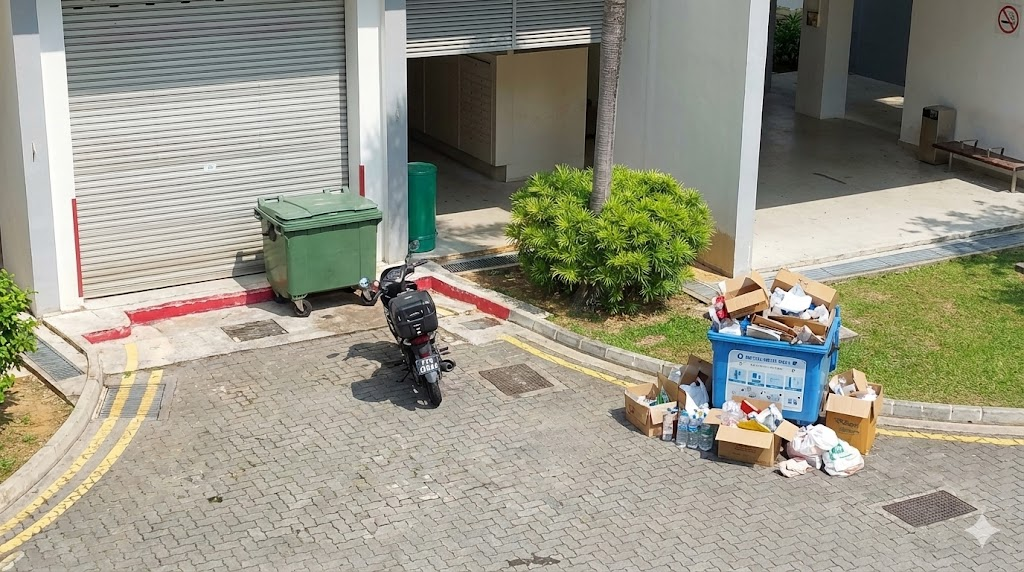bin_empty: (254, 187, 381, 316), (409, 162, 436, 251), (919, 105, 955, 164)
bin_full: (707, 269, 840, 424)
bulk_waste: (705, 398, 797, 466), (825, 369, 883, 454), (627, 374, 677, 436), (659, 354, 711, 408)
normal_waste: (787, 425, 838, 468), (824, 440, 863, 475), (779, 459, 813, 477), (698, 418, 713, 451), (686, 411, 699, 448), (662, 408, 677, 440), (675, 409, 687, 448)
vehicle: (360, 241, 455, 406)
